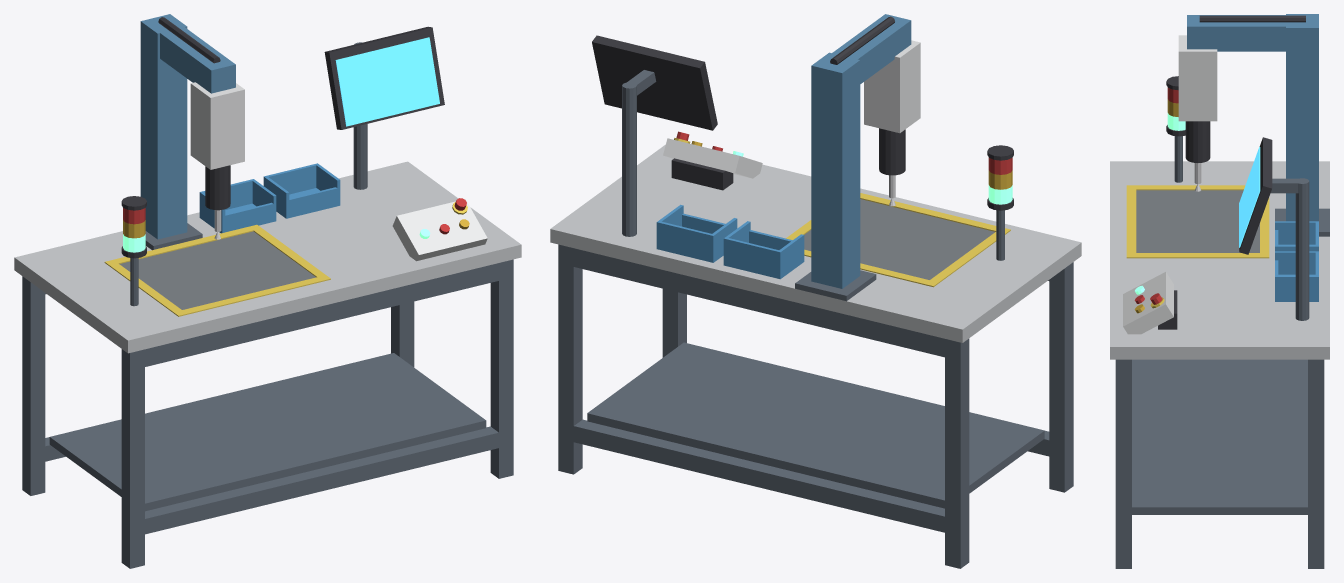
The model's file is AssemblyWorkstation.fbx.
3 renders of one model, left to right at view 1: azimuth 30°, elevation 25°; view 2: azimuth 150°, elevation 25°; view 3: azimuth 270°, elevation 25°, orthographic. The views are drawn at different scales.
Parts seen in each view (by area): view 1: WS_Shelf, WS_Top, WS_GantryColumn, WS_RailF, WS_ZonePad, WS_MonScreen, WS_ApronF, WS_Leg3, WS_Leg2, WS_Leg1, WS_ToolCarriage, WS_PanelBody (+13 smaller); view 2: WS_Shelf, WS_Top, WS_GantryColumn, WS_RailB, WS_ApronB, WS_MonBody, WS_ZonePad, WS_Leg2, WS_Leg3, WS_Leg0, WS_ToolCarriage, WS_GantryArm (+12 smaller); view 3: WS_Shelf, WS_Top, WS_ZonePad, WS_GantryColumn, WS_Leg0, WS_Leg1, WS_GantryArm, WS_ToolCarriage, WS_PanelBody, WS_MonPole, WS_MonBody, WS_MonScreen (+13 smaller).
Boxes of the visible parts, x1,y1,x2,y2 form: WS_Shelf: (49,353,486,511); WS_Top: (14,161,521,353); WS_GantryColumn: (140,14,187,239); WS_RailF: (145,426,498,534); WS_ZonePad: (119,231,315,309); WS_MonScreen: (335,37,439,126); WS_ApronF: (145,263,498,366); WS_Leg3: (121,349,144,568); WS_Leg2: (22,276,45,495); WS_Leg1: (490,259,513,478); WS_ToolCarriage: (190,82,244,169); WS_PanelBody: (392,199,487,261); WS_Shelf: (587,342,1044,508); WS_Top: (550,145,1081,342); WS_GantryColumn: (811,52,860,288); WS_RailB: (573,419,944,532); WS_ApronB: (573,248,944,357); WS_MonBody: (592,35,717,130); WS_ZonePad: (804,199,994,279); WS_Leg2: (945,338,969,568); WS_Leg3: (1049,262,1073,492); WS_Leg0: (558,244,582,474); WS_ToolCarriage: (864,40,920,133); WS_GantryArm: (814,14,911,99); WS_Shelf: (1132,359,1307,514); WS_Top: (1110,161,1329,359); WS_ZonePad: (1136,190,1259,252); WS_GantryColumn: (1286,14,1318,221); WS_Leg0: (1308,359,1324,568); WS_Leg1: (1115,359,1131,568); WS_GantryArm: (1187,15,1318,51); WS_ToolCarriage: (1178,35,1217,121); WS_PanelBody: (1123,272,1173,334); WS_MonPole: (1295,178,1309,320); WS_MonBody: (1239,137,1272,254); WS_MonScreen: (1239,146,1260,247).
Bounding box in the file's own units: 1.6 × 1.74 × 0.8.
